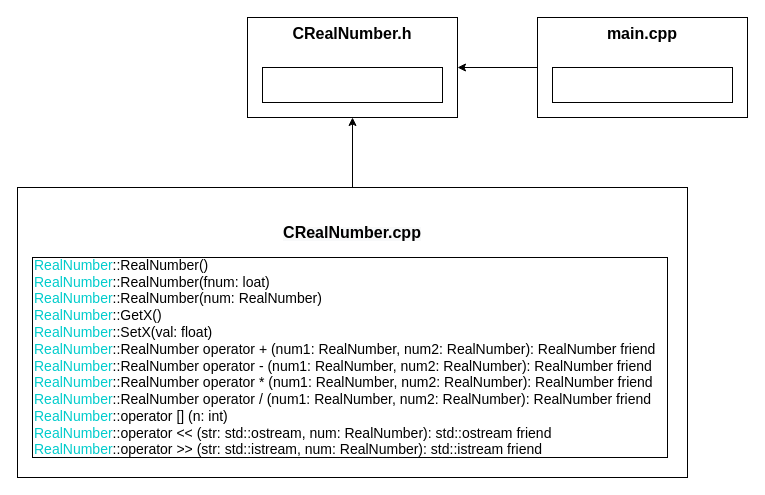
The diagram is 765 pixels wide and 495 high, and some of its shapes have lost their labels. Each missing label, with the centre of its shape:
"class RealNumber" belongs at point (352, 84).
"main ( )" belongs at point (642, 84).
